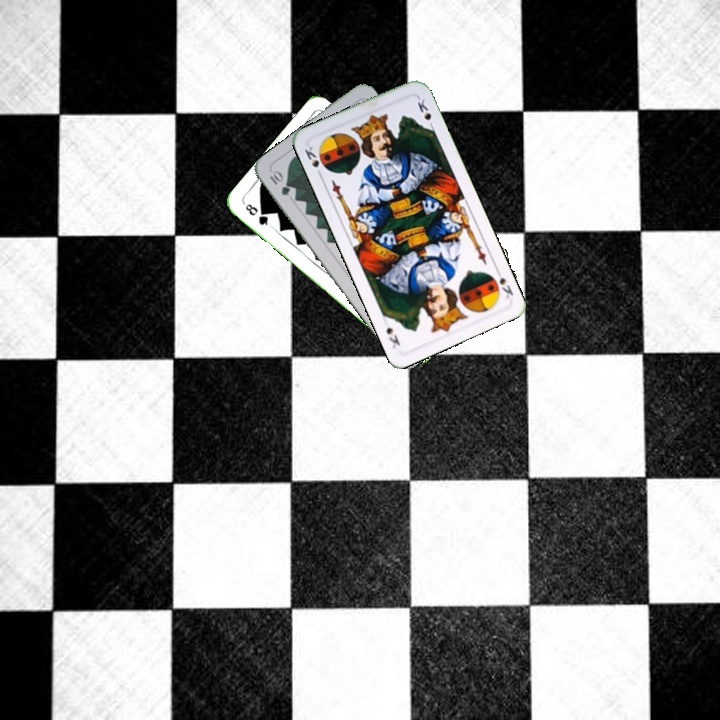G10: (265, 166, 293, 198)
G8: (241, 199, 274, 229)
SK: (300, 142, 325, 180), (491, 264, 516, 300)
